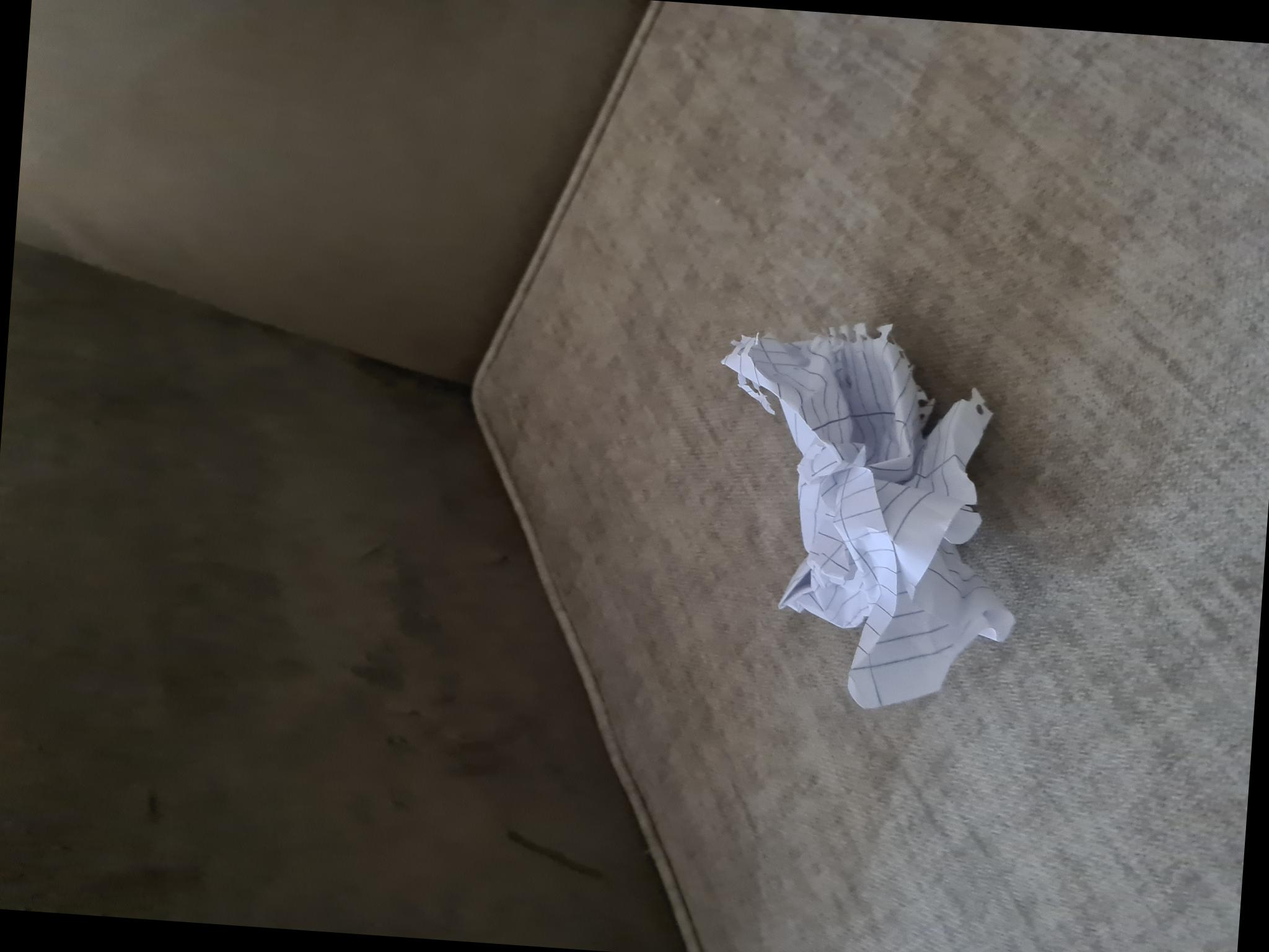Kertas: (221, 711, 618, 949)
